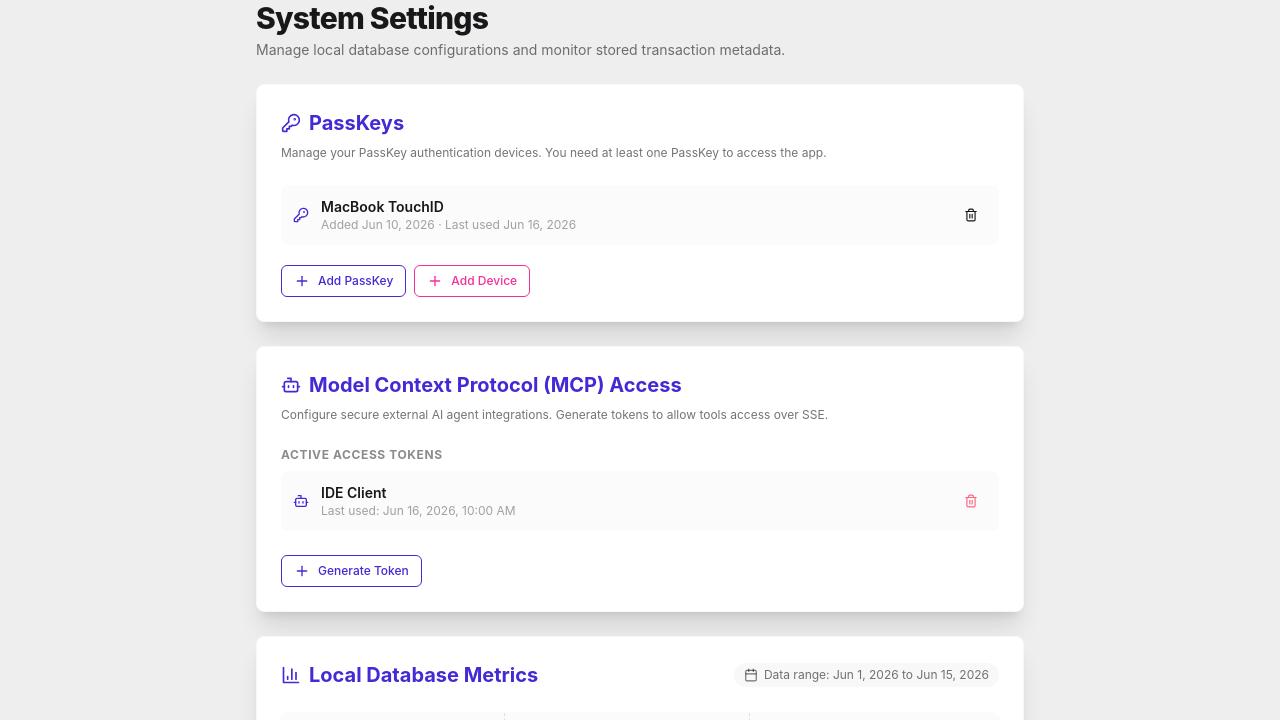
it: McpSection API & interactive behaviors › closes revocation modal on Escape key
Click the button named "Revoke - IDE Client" at (971, 501), box [955, 489, 987, 513]
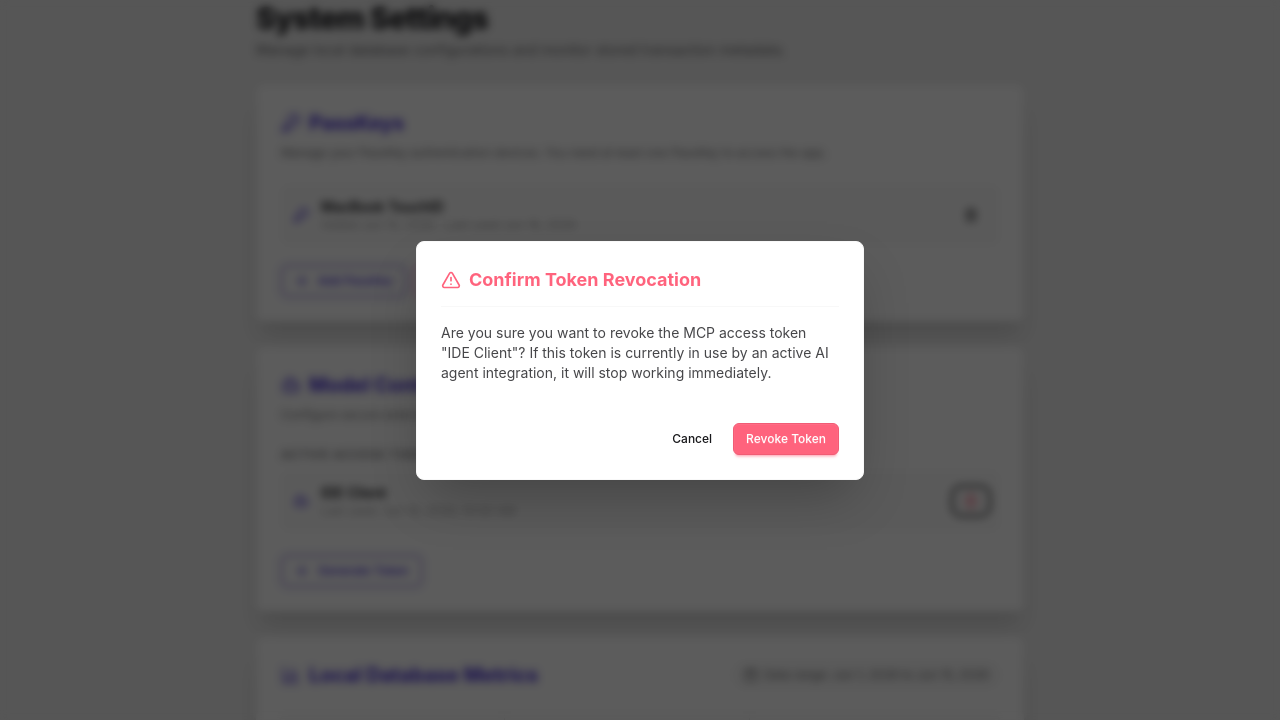
Expected: the heading "Confirm Token Revocation" is shown, [441, 266, 701, 294]
Press Escape
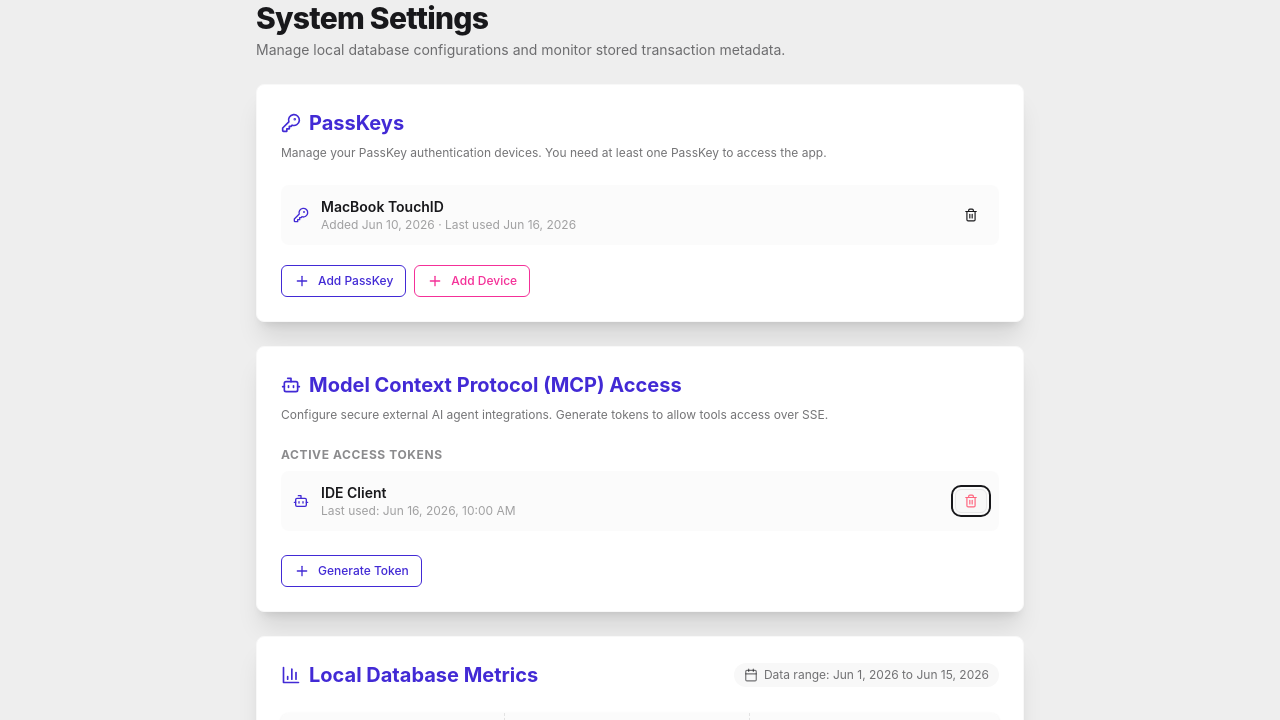
Expected: the heading "Confirm Token Revocation" is gone
